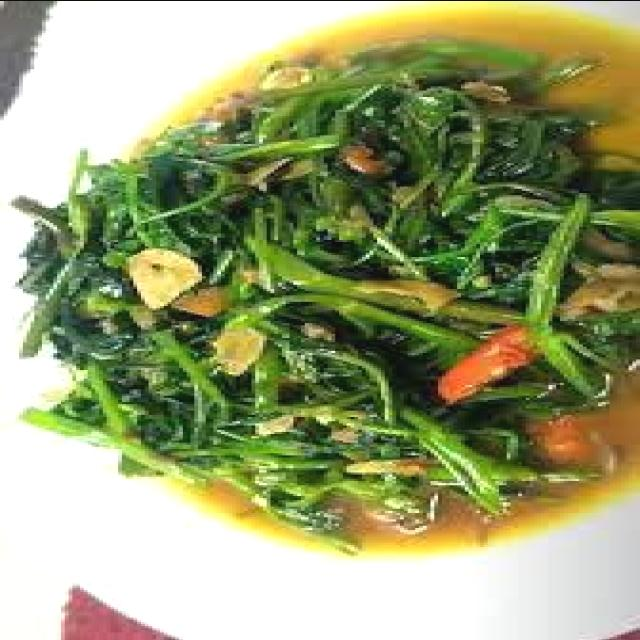tumis kangkung: (34, 51, 630, 570)
